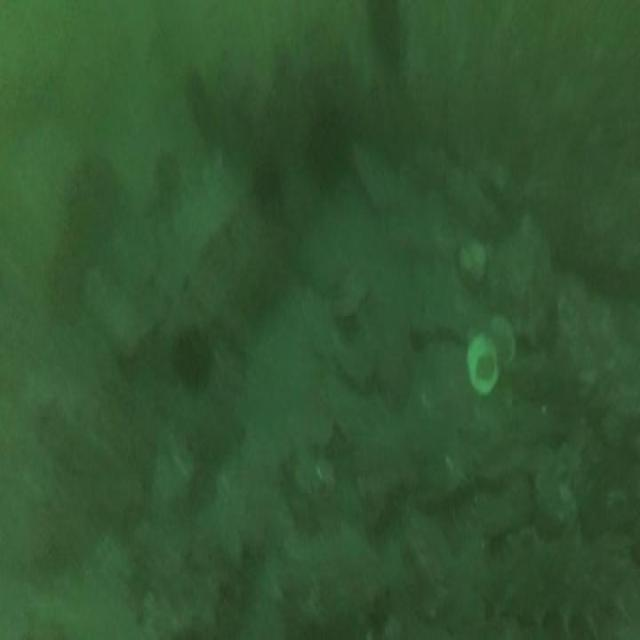echinus: (68, 165, 120, 246), (310, 117, 350, 190), (175, 328, 212, 394), (366, 3, 404, 65), (252, 152, 282, 205)
holothurian: (478, 536, 606, 637)
